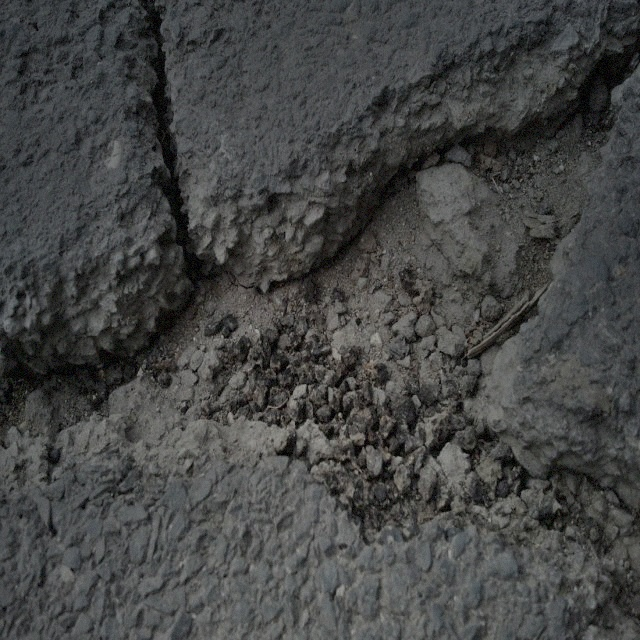pothole: (128, 83, 623, 579)
